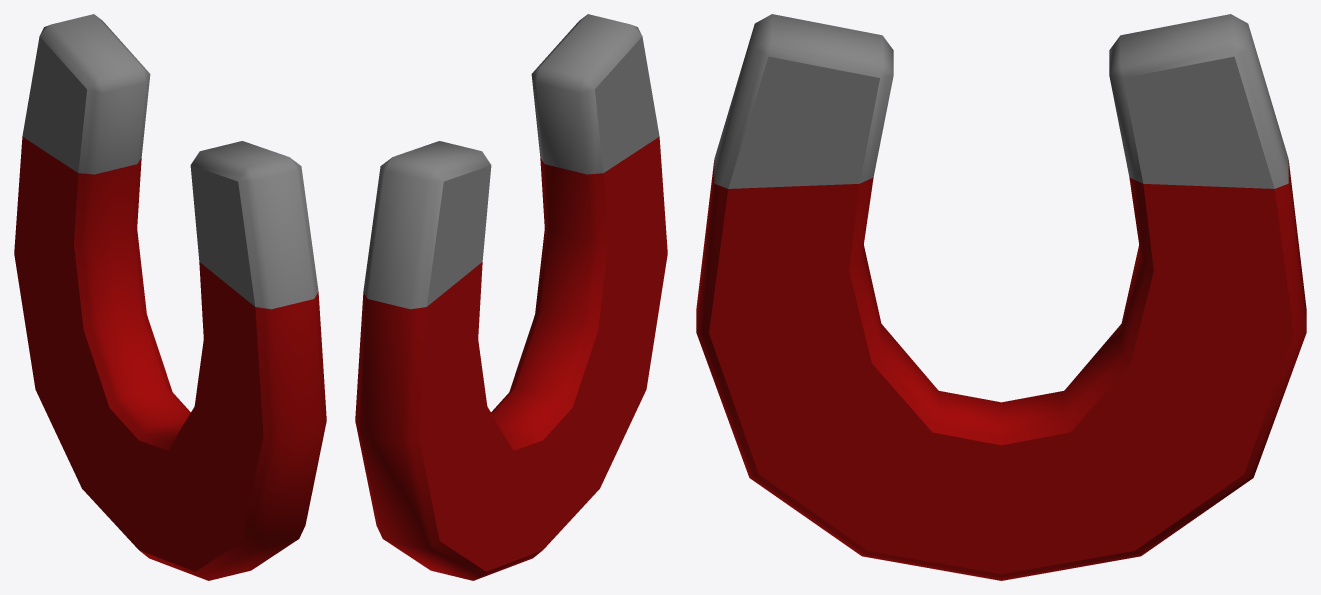
The model's file is Magnet.FBX.
The picture shows the model from 3 angles, left to right: view 1: azimuth 30°, elevation 25°; view 2: azimuth 150°, elevation 25°; view 3: azimuth 270°, elevation 25°; orthographic projection. The views are drawn at different scales.
Parts seen in each view (by area): view 1: Magnet; view 2: Magnet; view 3: Magnet.
Boxes of the visible parts, bbox=[...] form: Magnet: bbox=[14, 14, 326, 580]; Magnet: bbox=[355, 14, 667, 580]; Magnet: bbox=[696, 14, 1306, 580].
Bounding box in the file's own units: 8.37 × 58.41 × 59.52.
